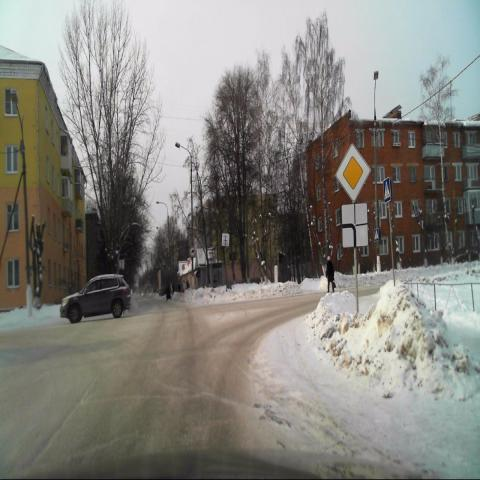8_13: (342, 204, 368, 247)
